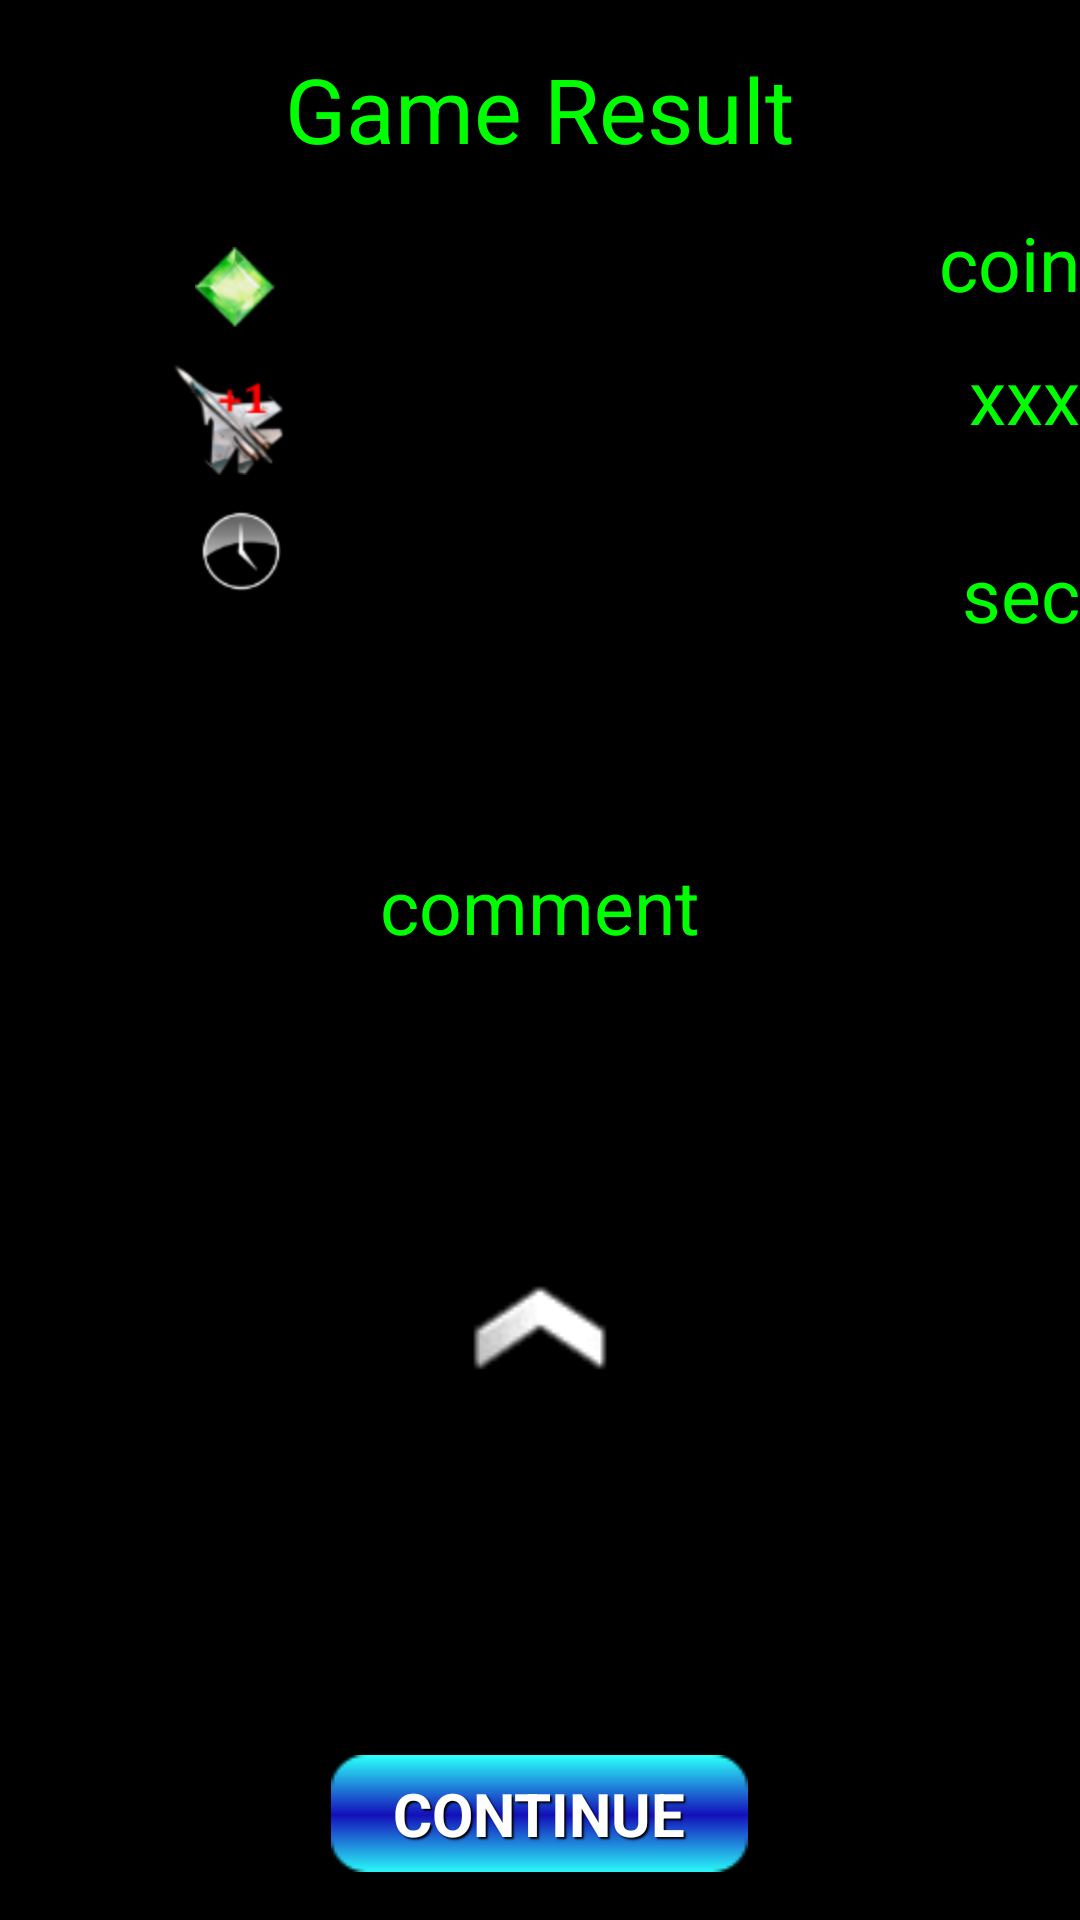

Where icons sit on this 1080×1920 app screen, as box(x1, y1, x2, y2):
clock: box(202, 512, 281, 591)
coin: box(195, 247, 275, 327)
rank: box(474, 1286, 606, 1369)
su flanker revive: box(175, 366, 283, 475)
